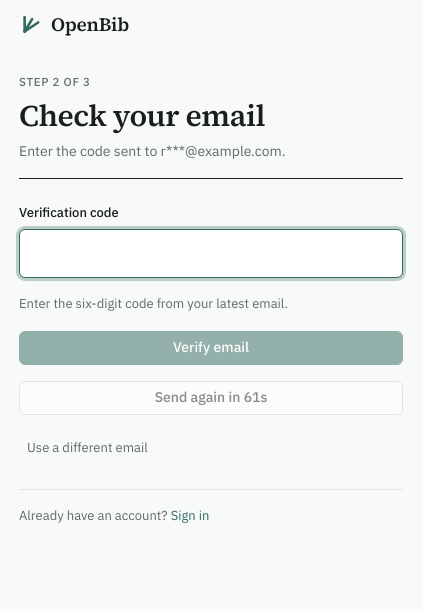
mailbox-first registration › shows an invalid code and retains the verification form
The width and height of the screenshot is (423, 611).
In the field labelled "Verification code": (211, 254) [19,230,403,278], type "111111"
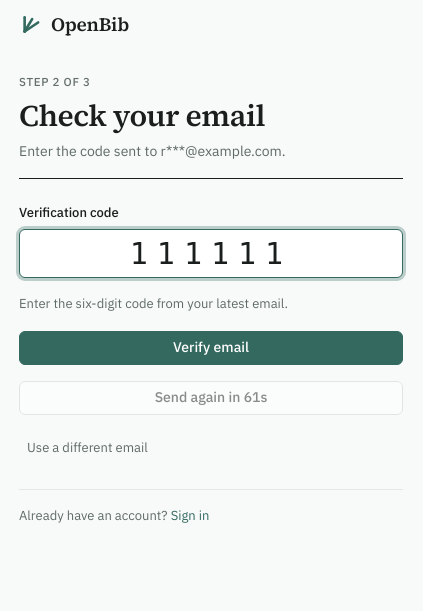
Submit the form labelled "Verification code", box [19,203,403,415]
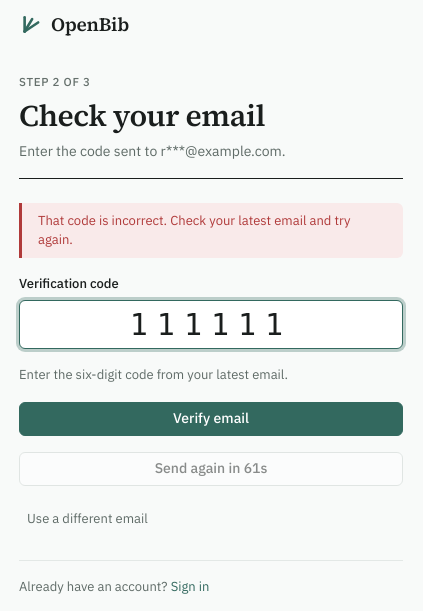
Expected: the message shows "That code is incorrect", [38,212,350,248]
